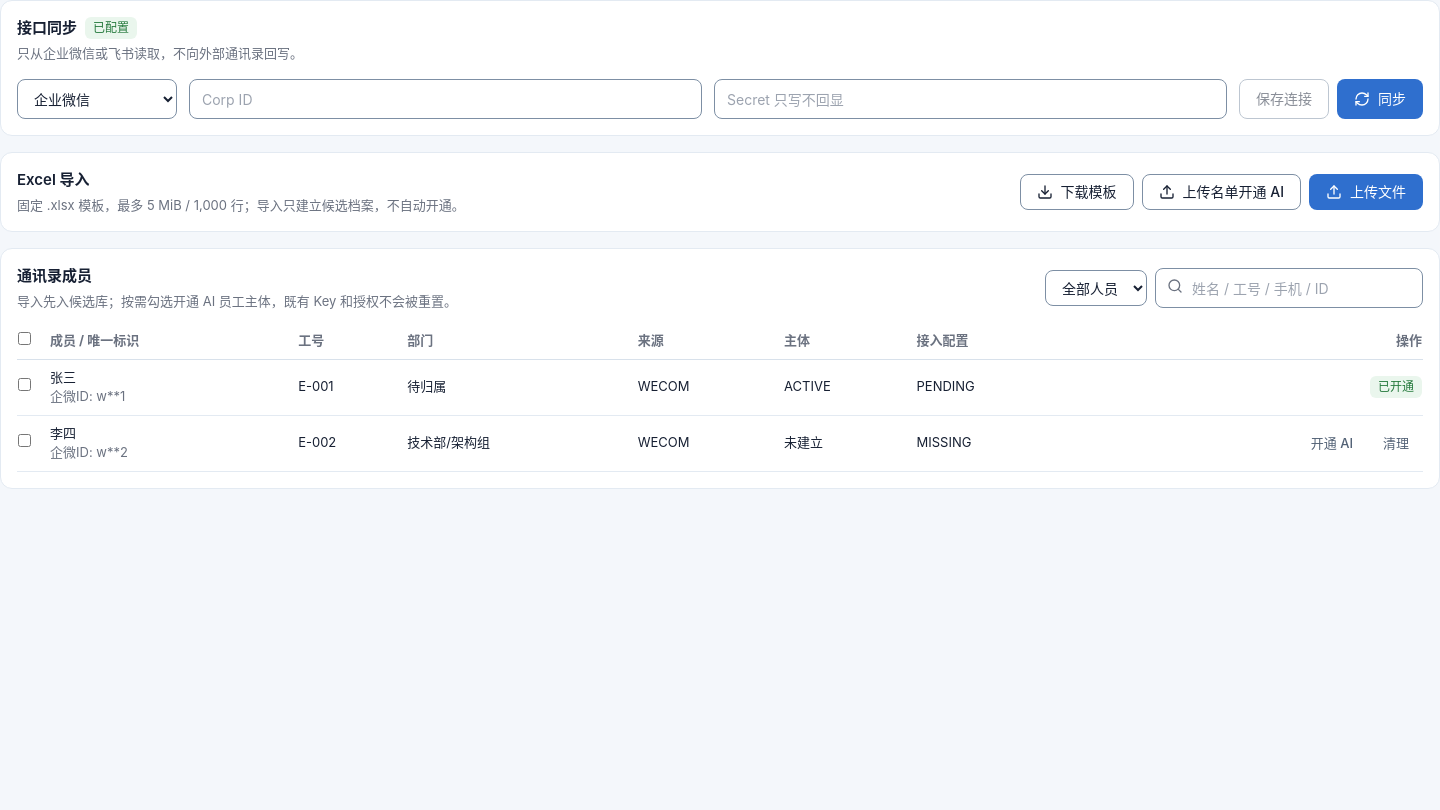
Test: W20-02/03 组织通讯录 Web › A 方式：全选当前页与状态筛选联动
The image size is (1440, 810).
Click the checkbox named "全选当前页". click: (24, 338)
box: [18,332,31,345]
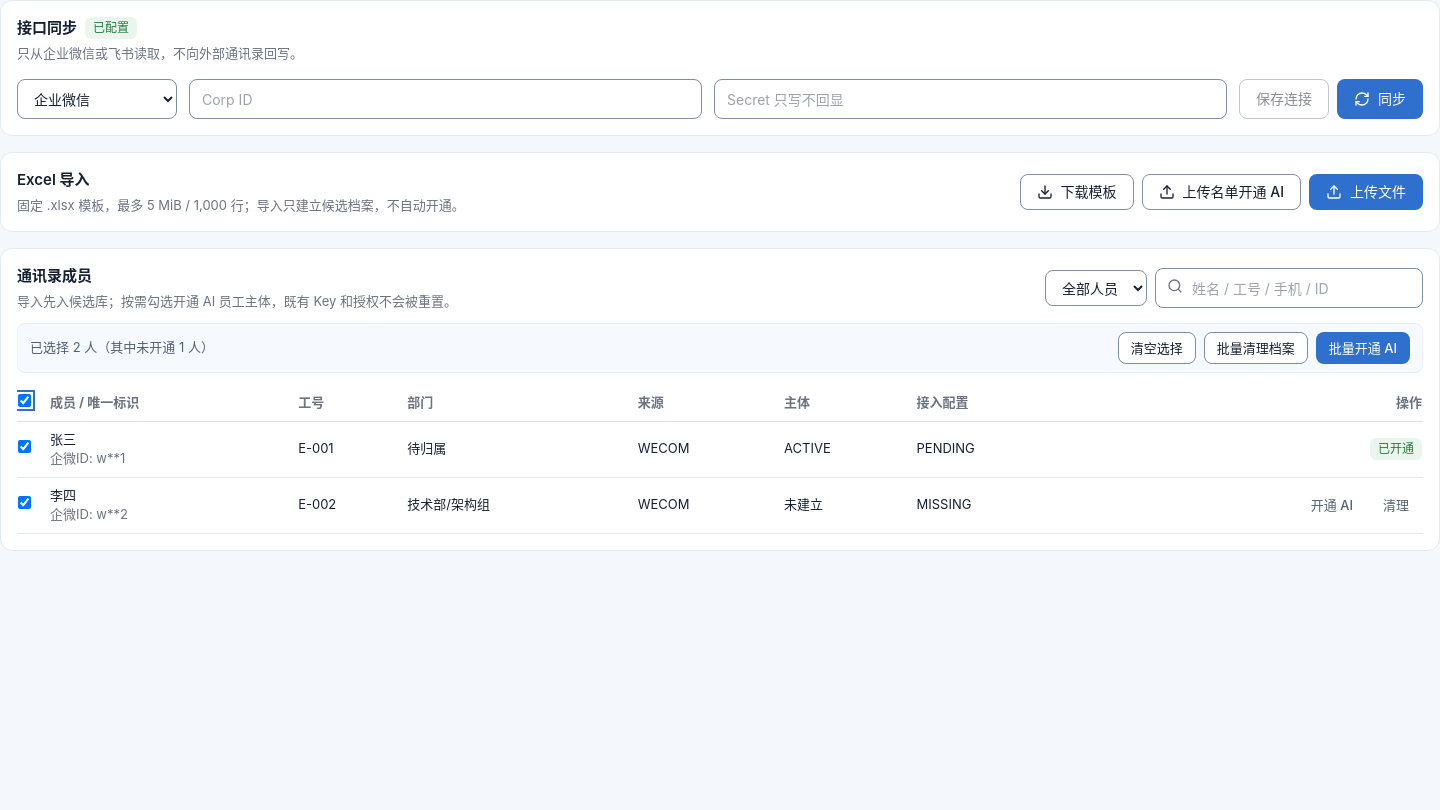
Expected: the text "已选择 2 人（其中未开通 1 人）" is shown, [30,338,214,358]
Click the checkbox named "全选当前页". click: (24, 400)
box: [18,394,31,407]
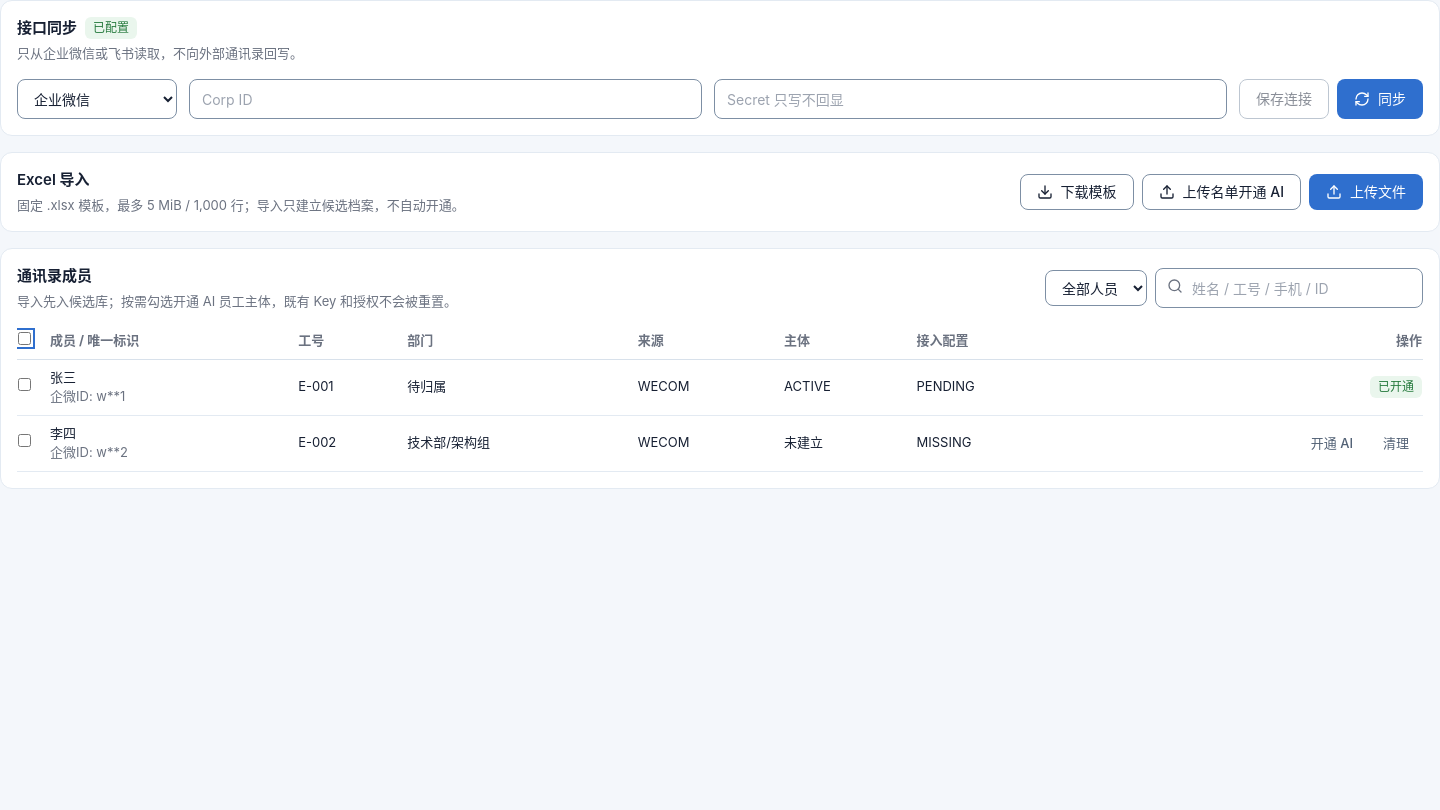
Expected: the text "已选择" is gone
Select "仅未开通" in the dropdown named "开通状态筛选". click: (1096, 288)
box: [1045,270,1147,306]
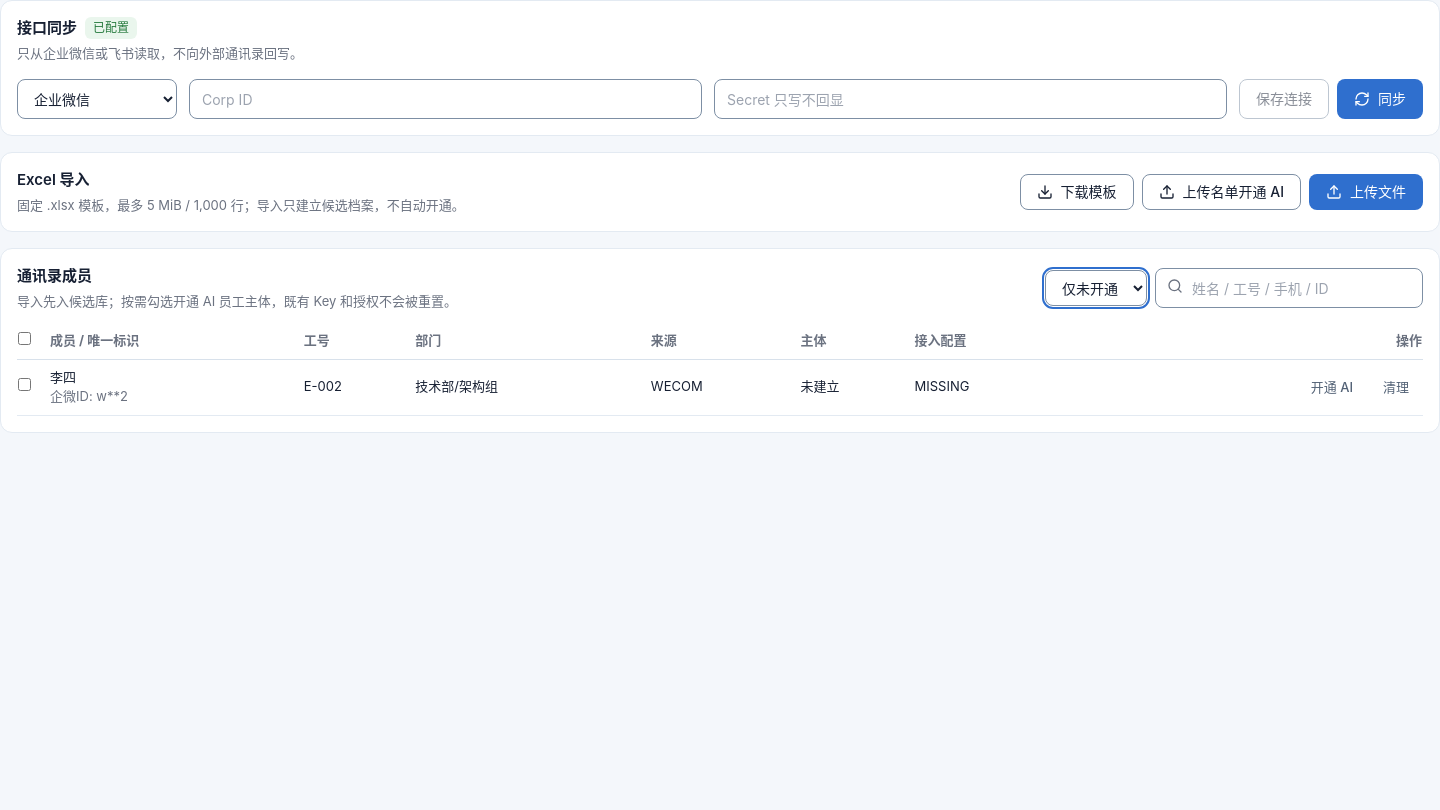
Expected: the button "开通 AI" is shown, [1298,371,1366,403]
Expected: the text "已开通" is gone
Click the checkbox named "全选当前页". click: (24, 338)
box: [18,332,31,345]
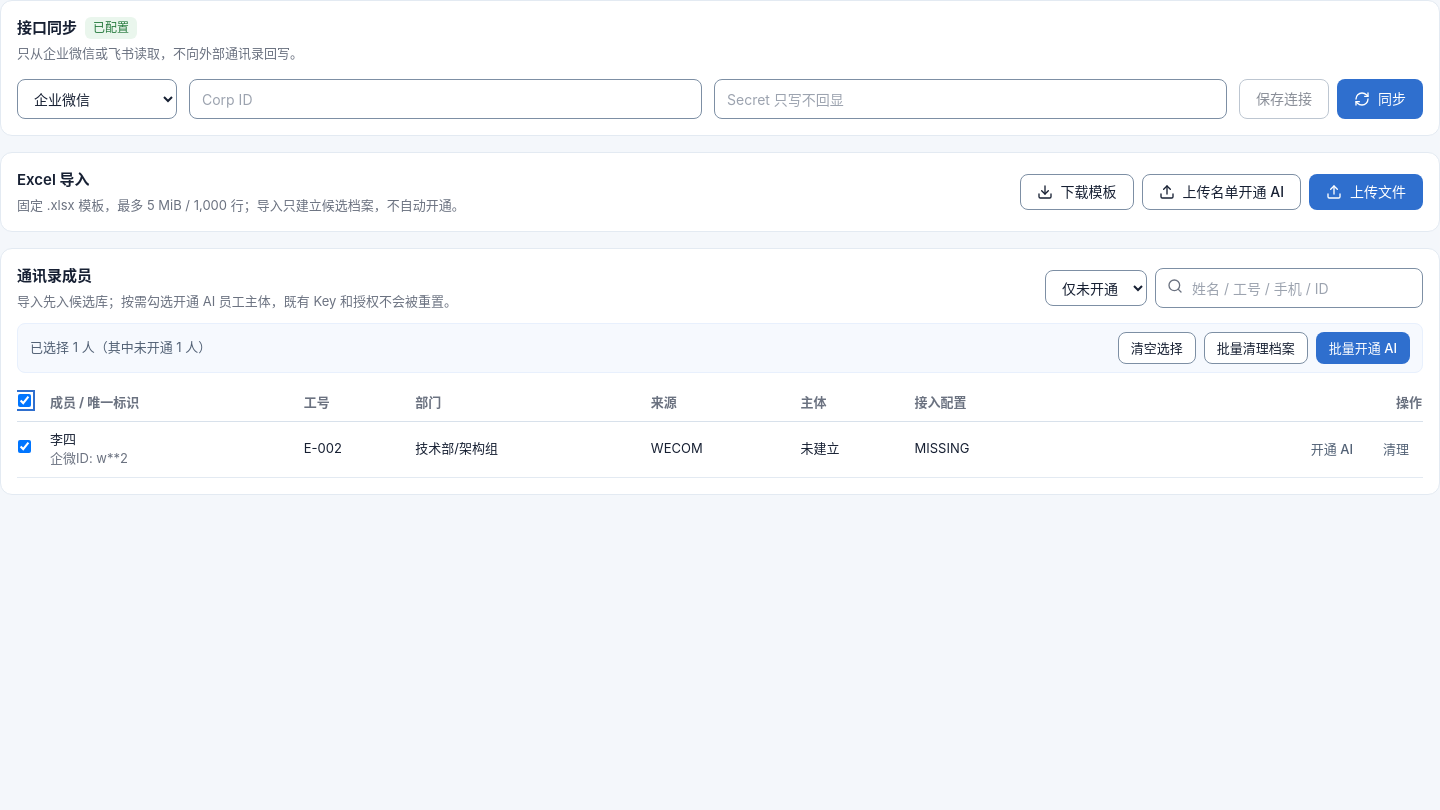
Expected: the text "已选择 1 人（其中未开通 1 人）" is shown, [30,338,211,358]
